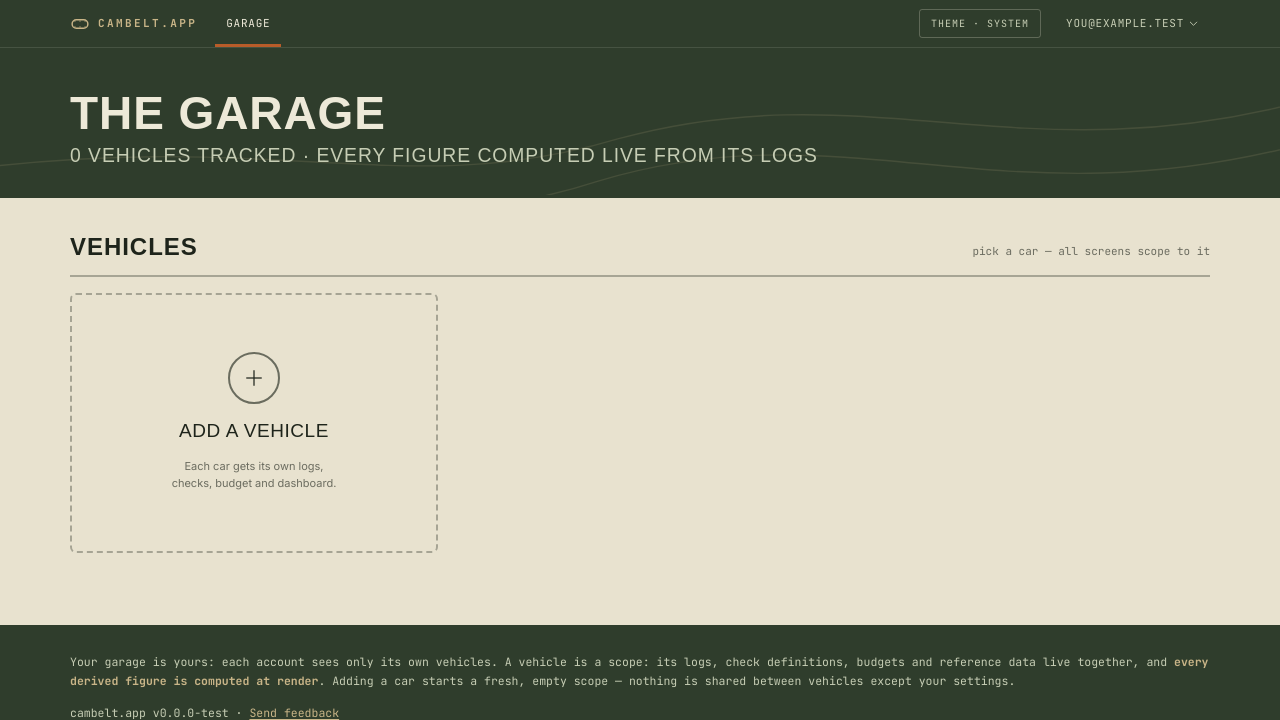
the add-vehicle sheet › offers the DVLA lookup, now that there is one behind it
Click the button "Add a vehicle" at (254, 422), box x1=70 y1=292 x2=438 y2=552
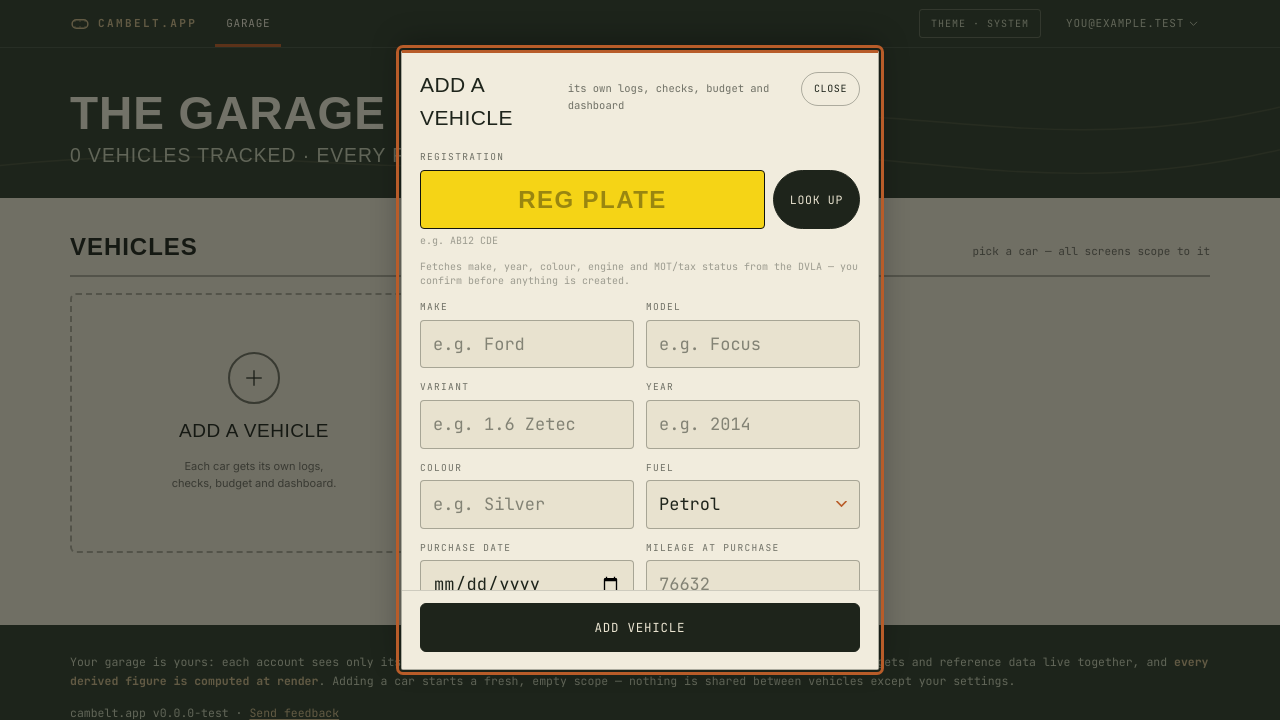
Now the button "Look up" is shown, box x1=773 y1=170 x2=860 y2=229
Now the text "you confirm before anything is created" is shown, box x1=420 y1=260 x2=858 y2=287
